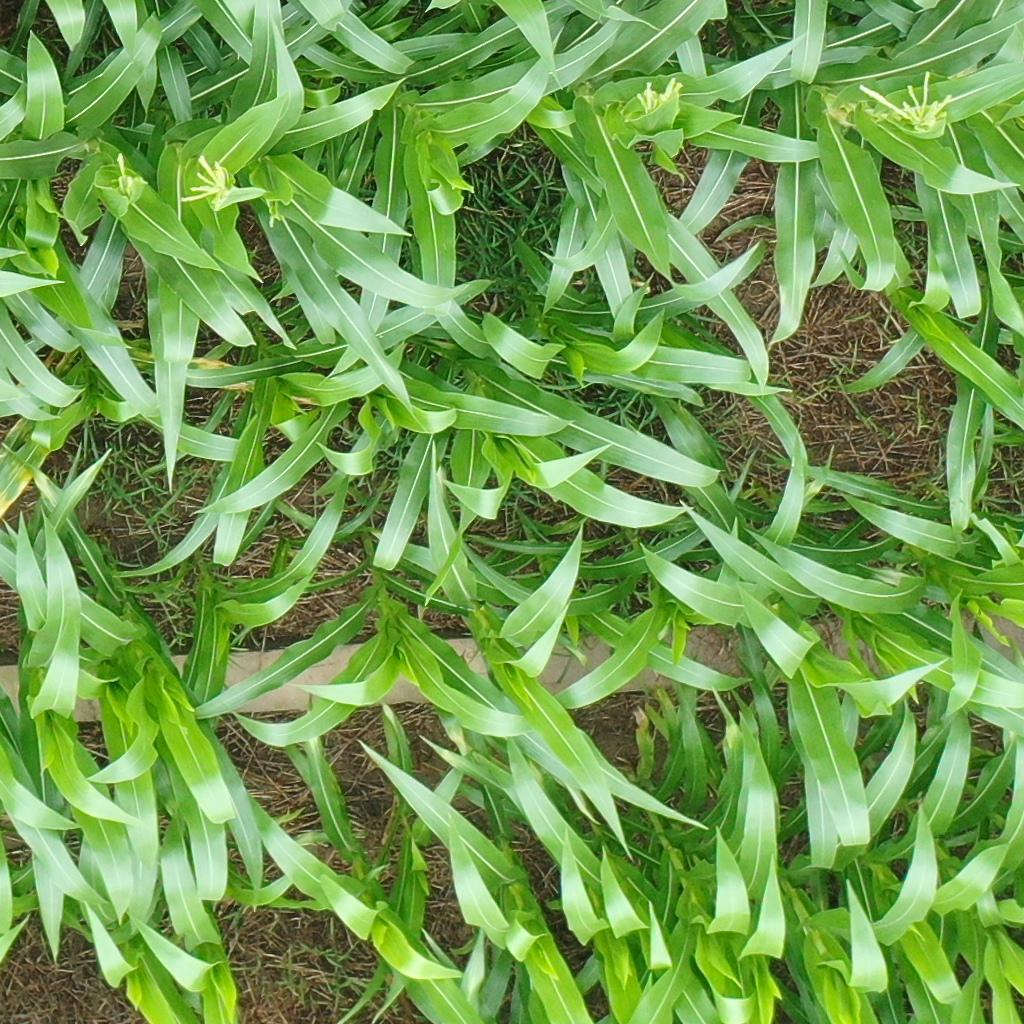Tassel: (854, 68, 949, 135), (175, 151, 235, 210), (629, 72, 686, 123), (104, 150, 146, 204)
